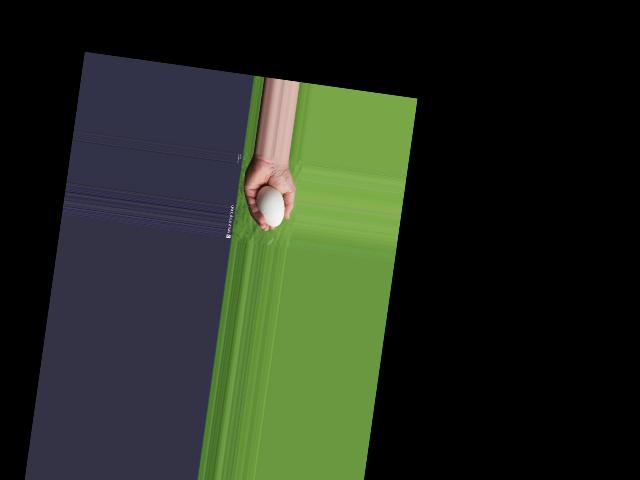egg: (252, 183, 287, 227)
